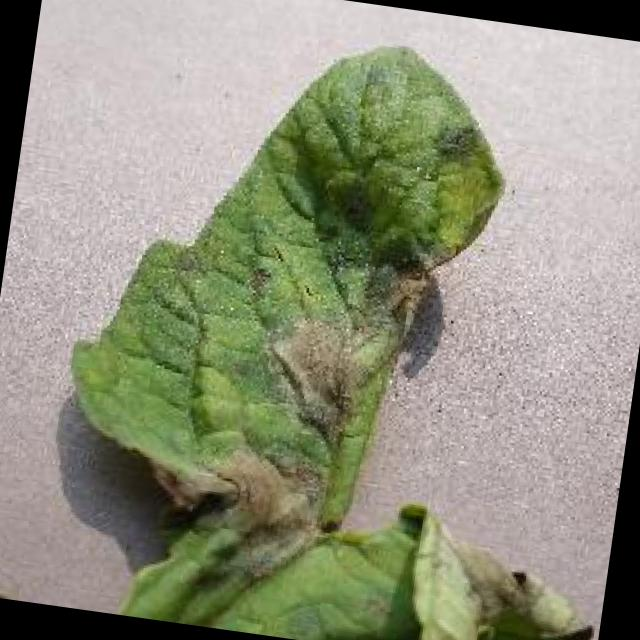Tomato_Late_Blight: (173, 81, 512, 568)
